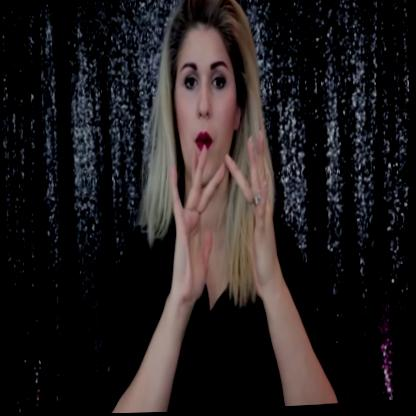Internet: (163, 135, 282, 310)
